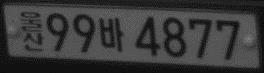4: (131, 15, 163, 59)
7: (175, 15, 213, 57), (215, 17, 242, 62)
8: (161, 13, 187, 57)
9: (45, 10, 71, 52), (71, 13, 97, 55)
바: (97, 14, 124, 52)
울산_V: (19, 8, 46, 53)
